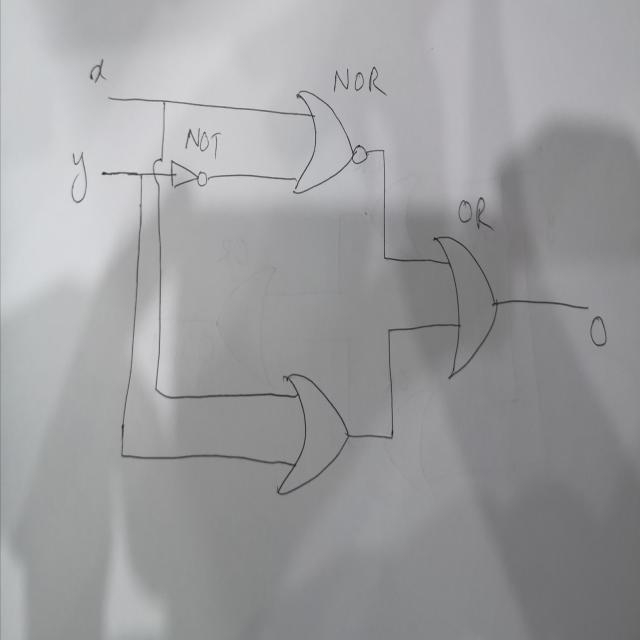crossover: (151, 154, 163, 188)
junction: (386, 424, 396, 445), (378, 141, 388, 158), (118, 446, 126, 462), (152, 381, 160, 396), (136, 168, 144, 182), (160, 94, 168, 108), (382, 250, 388, 264), (386, 323, 392, 337)
terminal: (98, 165, 110, 180), (584, 301, 590, 312), (106, 93, 112, 103)
text: (332, 62, 386, 101), (182, 124, 222, 160), (457, 193, 494, 231), (71, 148, 87, 205), (588, 312, 608, 348), (89, 57, 107, 83)
